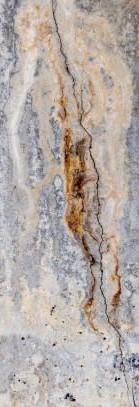Corrosion: (2, 1, 135, 332)
Crack: (51, 1, 137, 407)
Spalling: (13, 304, 120, 407)
